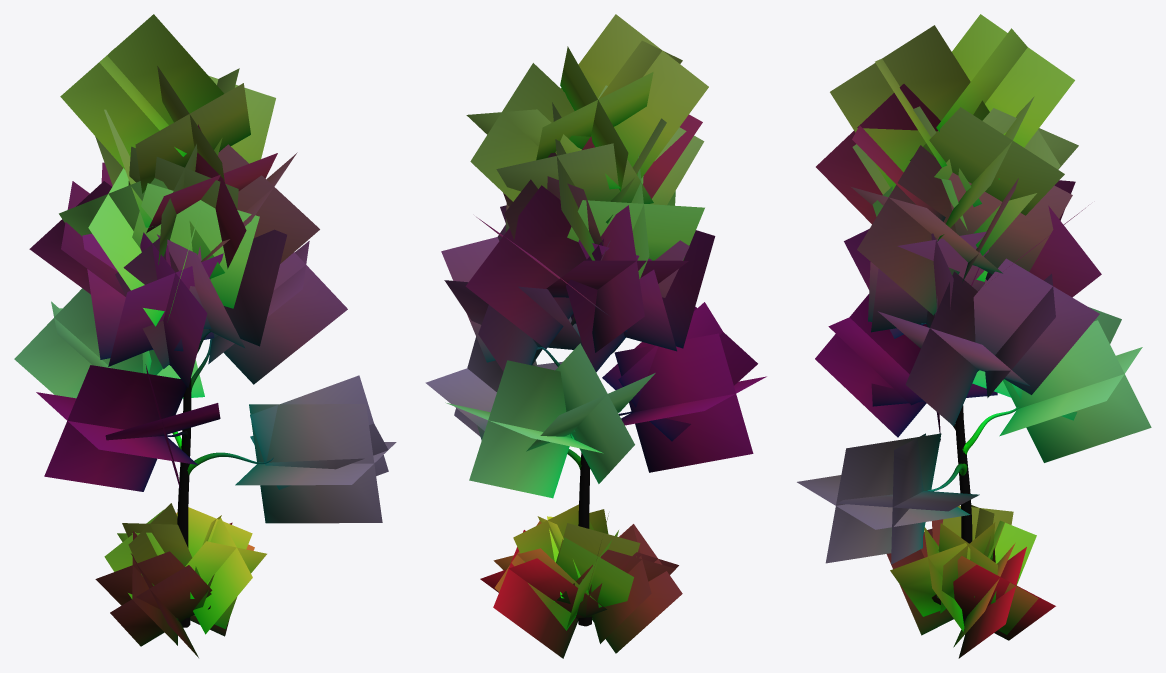
File: URP_P12_Tree_2_LOD_0.fbx
3 views of the same model, side by side, from view 1: azimuth 30°, elevation 25°; view 2: azimuth 150°, elevation 25°; view 3: azimuth 270°, elevation 25° (orthographic).
Visible parts, largest first — view 1: Tree_2_LOD_0; view 2: Tree_2_LOD_0; view 3: Tree_2_LOD_0.
Boxes of the visible parts, x1=… form: Tree_2_LOD_0: x1=14, y1=14, x2=396, y2=657; Tree_2_LOD_0: x1=425, y1=14, x2=766, y2=658; Tree_2_LOD_0: x1=797, y1=14, x2=1151, y2=658.
Bounding box in the file's own units: 198 × 362 × 191.
